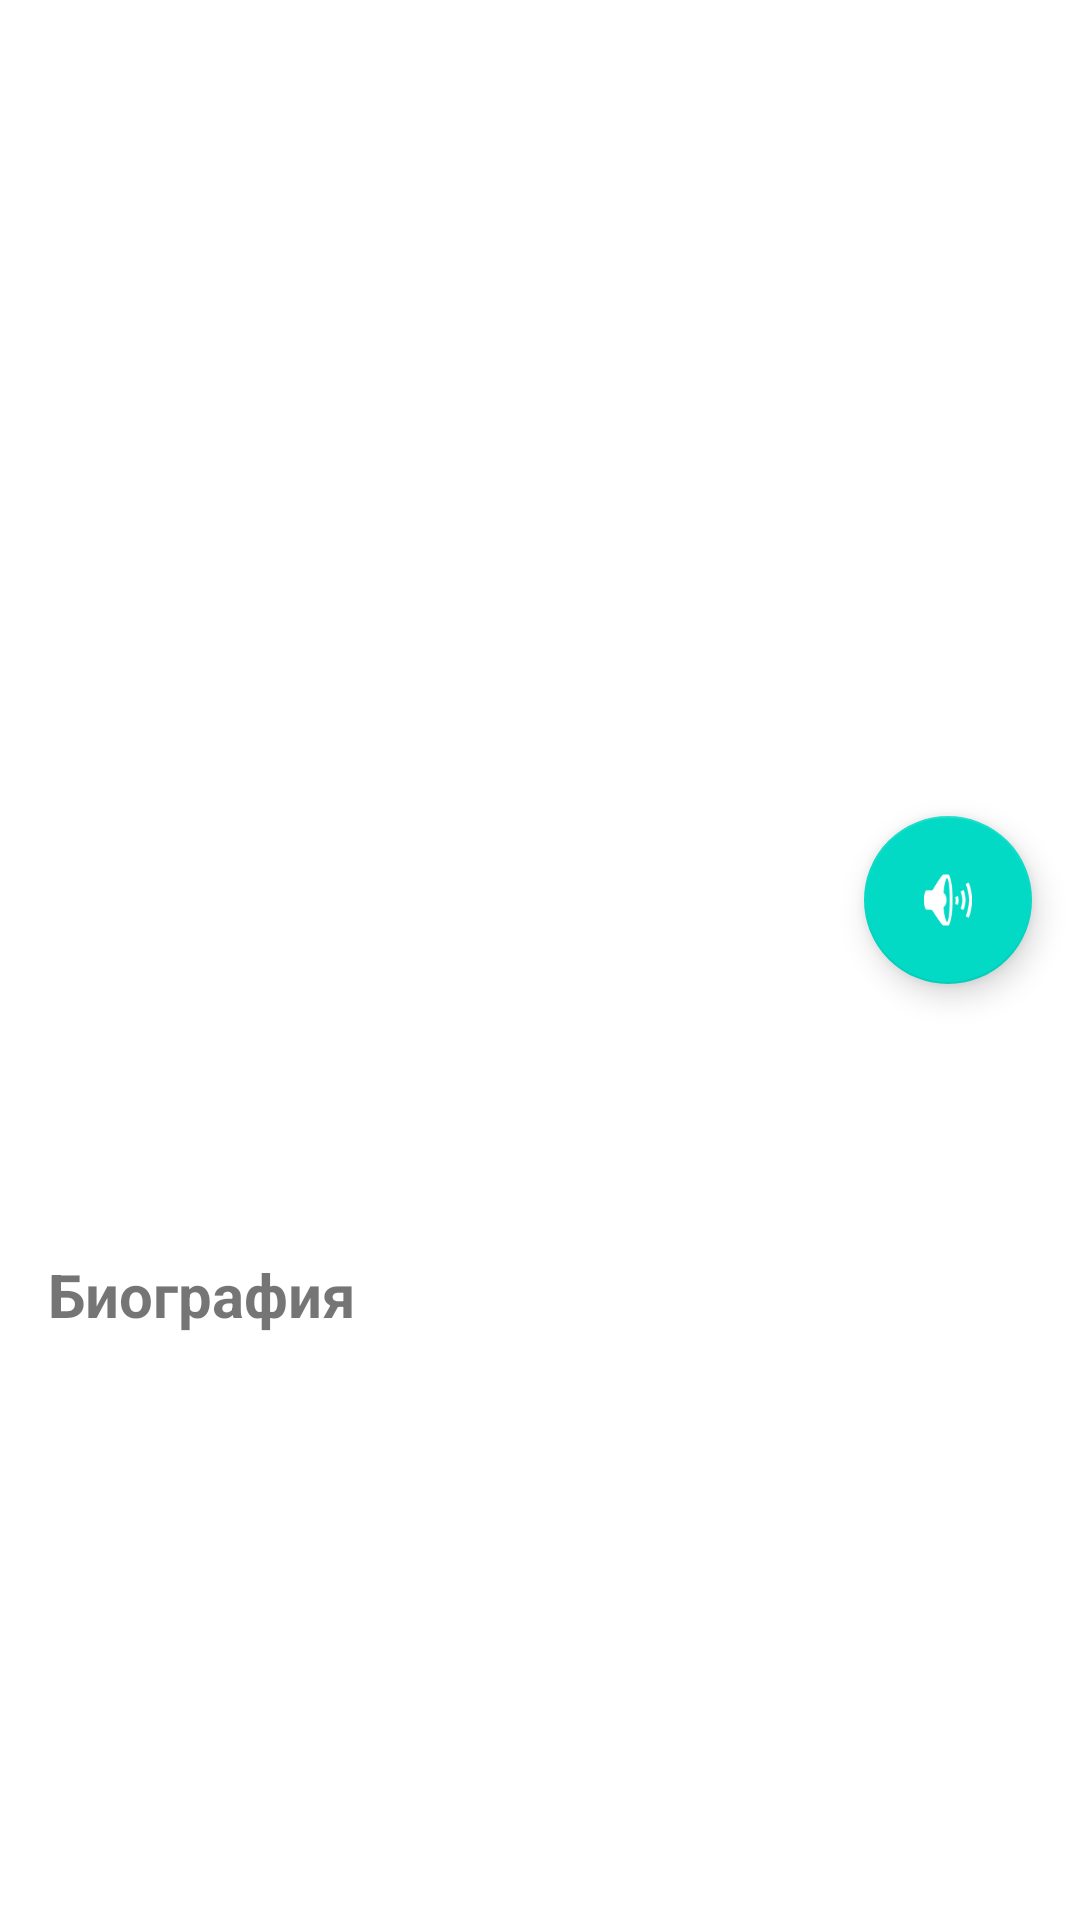

Screen size 1080×1920. Icon name, then its box in pixels as [x1,y1,x2,y2]:
lock silent mode off: [864,816,1032,984]
